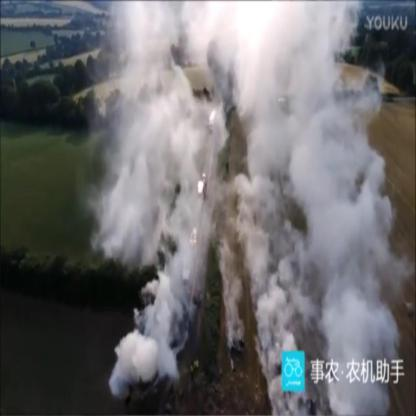smoke: (288, 166, 400, 342), (158, 69, 214, 318), (238, 70, 376, 162), (166, 3, 359, 67), (219, 174, 289, 350), (107, 3, 164, 160), (88, 165, 156, 268), (106, 326, 183, 399), (330, 384, 390, 413)
